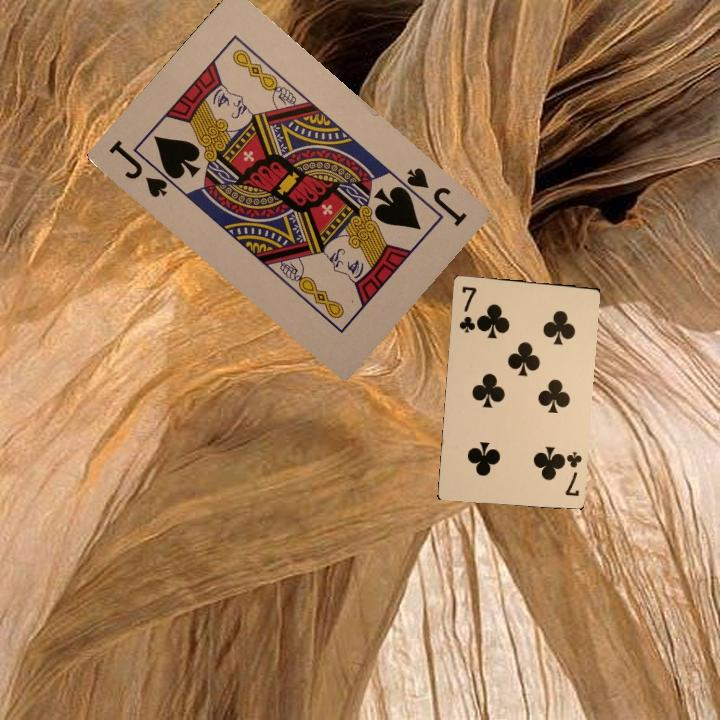7c: (556, 448, 584, 499), (455, 282, 479, 335)
Js: (102, 135, 181, 201), (396, 163, 470, 229)
